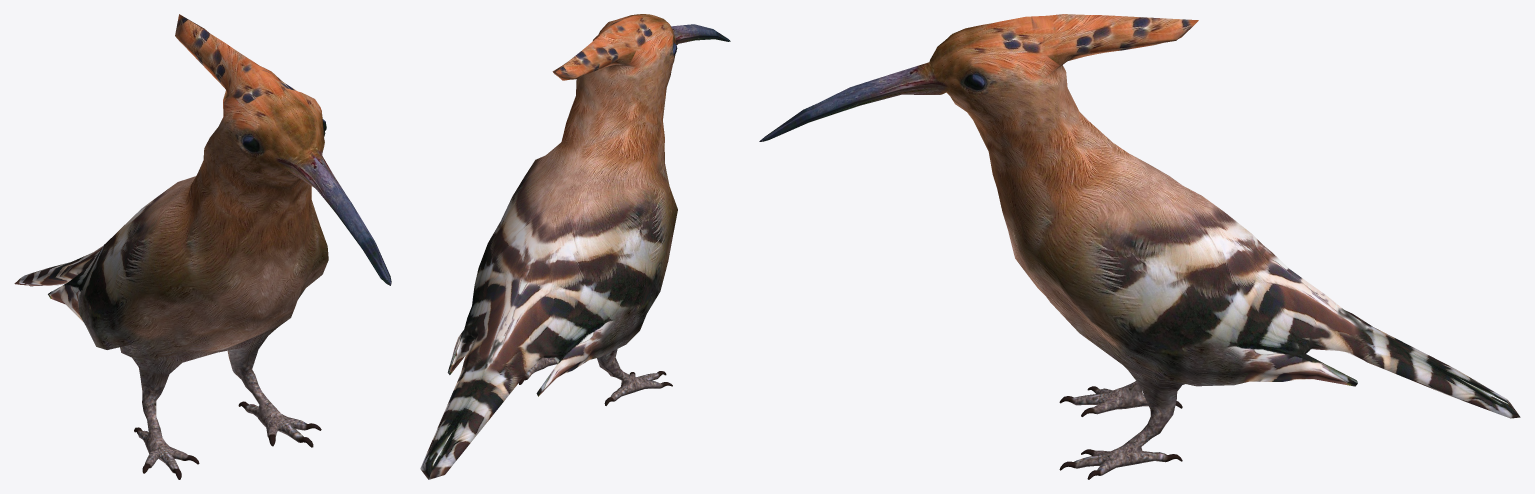
The model's file is Eurasian Hoopoe.fbx.
3 renders of one model, left to right at view 1: azimuth 30°, elevation 25°; view 2: azimuth 150°, elevation 25°; view 3: azimuth 270°, elevation 25°, orthographic. The views are drawn at different scales.
Parts seen in each view (by area): view 1: Euraseian Hoopoe; view 2: Euraseian Hoopoe; view 3: Euraseian Hoopoe.
Part boxes in pixels (box(x1,y1,x2,y2)): Euraseian Hoopoe: box(14, 14, 391, 479); Euraseian Hoopoe: box(420, 14, 730, 479); Euraseian Hoopoe: box(759, 14, 1520, 479).
Size of the model in its own units: 9.9 by 19.86 by 32.41.
